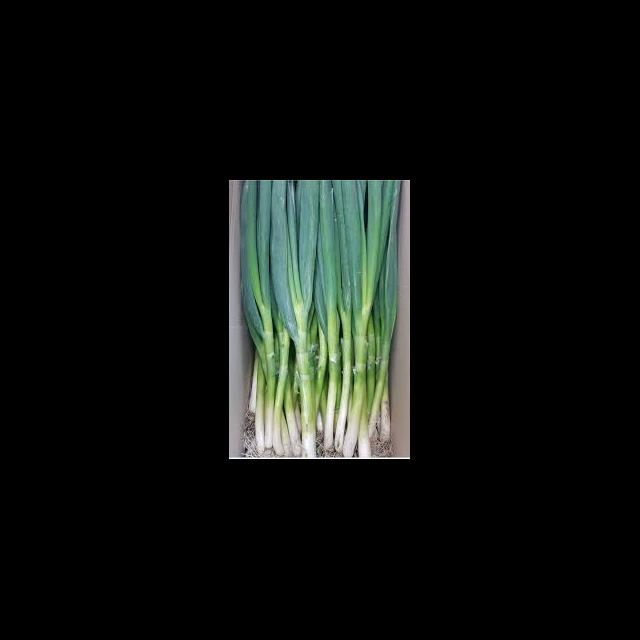green_onion: (241, 180, 400, 457), (333, 181, 401, 457), (272, 180, 332, 457)
